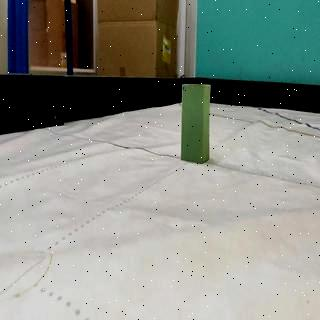greenbox: (180, 81, 212, 164)
